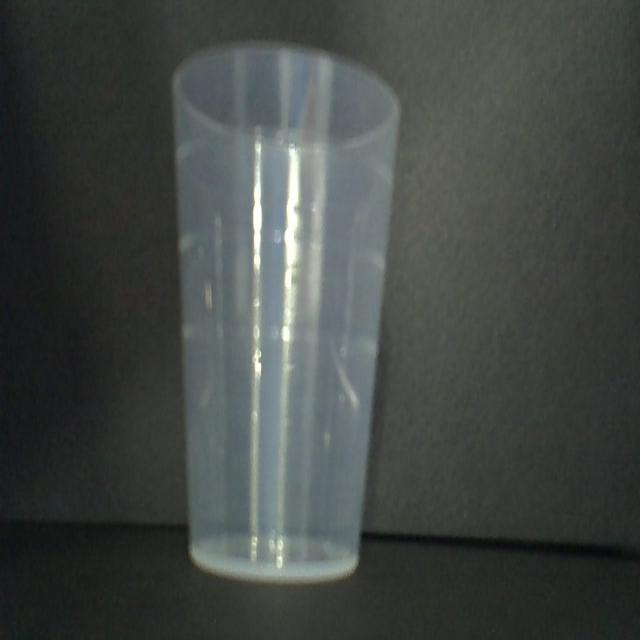cup: (168, 39, 403, 588)
